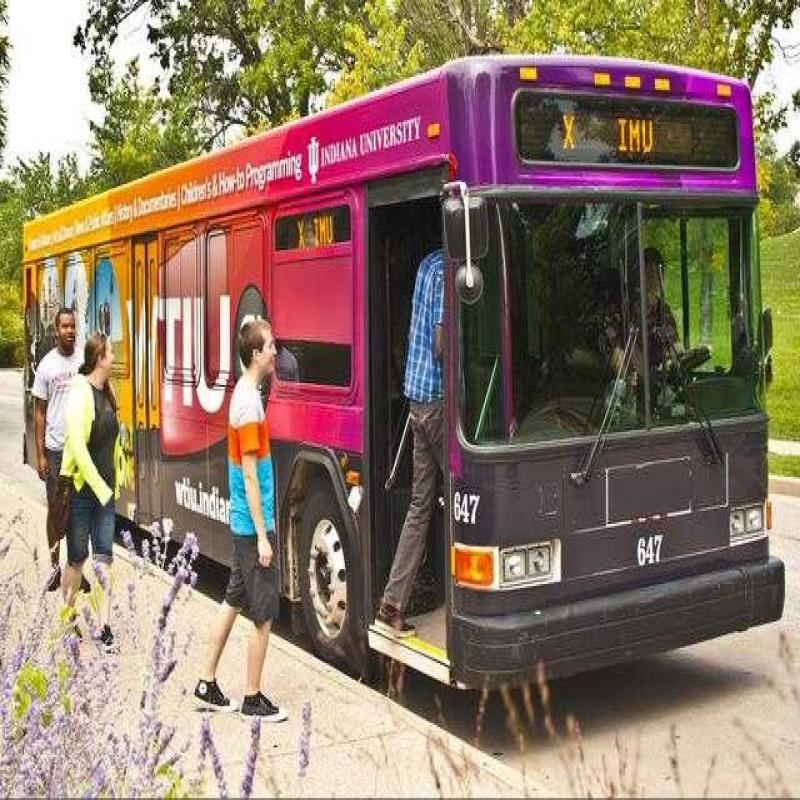bus: (37, 105, 752, 694)
